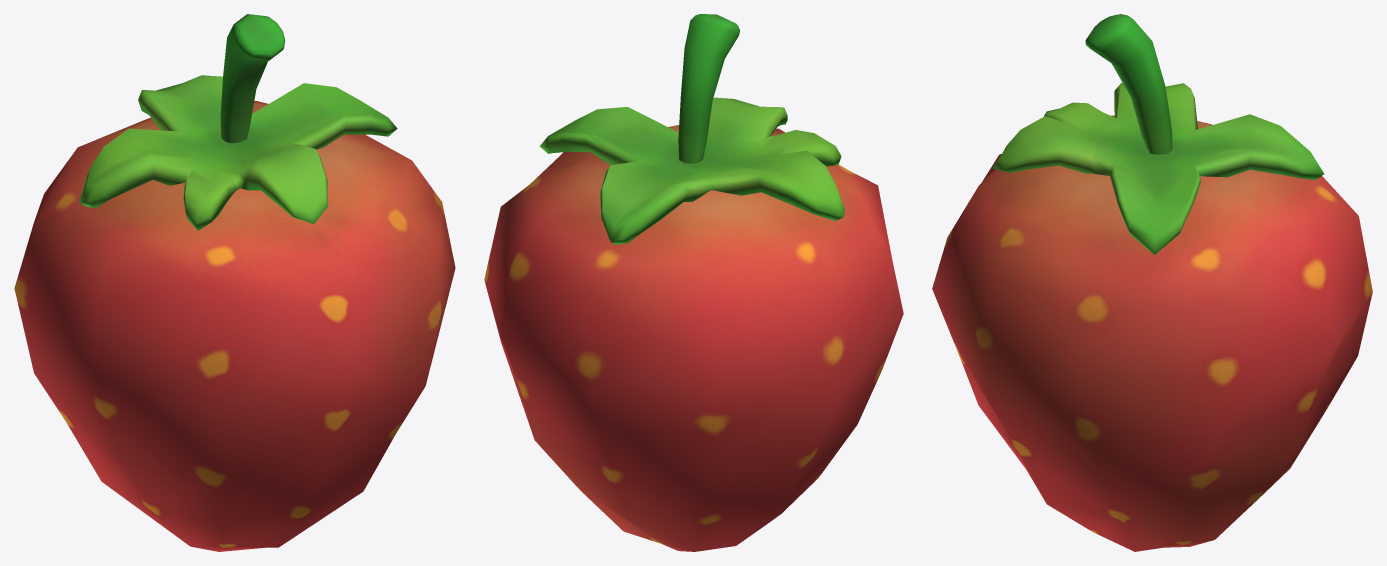
Rendered from Strawberry.fbx.
3 renders of one model, left to right at view 1: azimuth 30°, elevation 25°; view 2: azimuth 150°, elevation 25°; view 3: azimuth 270°, elevation 25°, orthographic. The views are drawn at different scales.
Visible parts, largest first — view 1: Strawberry; view 2: Strawberry; view 3: Strawberry.
Part boxes in pixels (box(x1,y1,x2,y2)): Strawberry: box(14, 14, 455, 551); Strawberry: box(484, 14, 903, 551); Strawberry: box(932, 14, 1372, 551).
Size of the model in its own units: 1.45 by 2.01 by 1.55.
